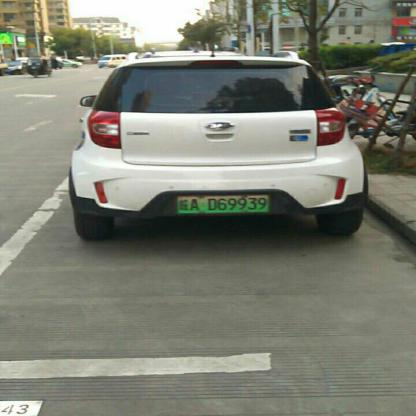lp: (178, 194, 270, 213)
